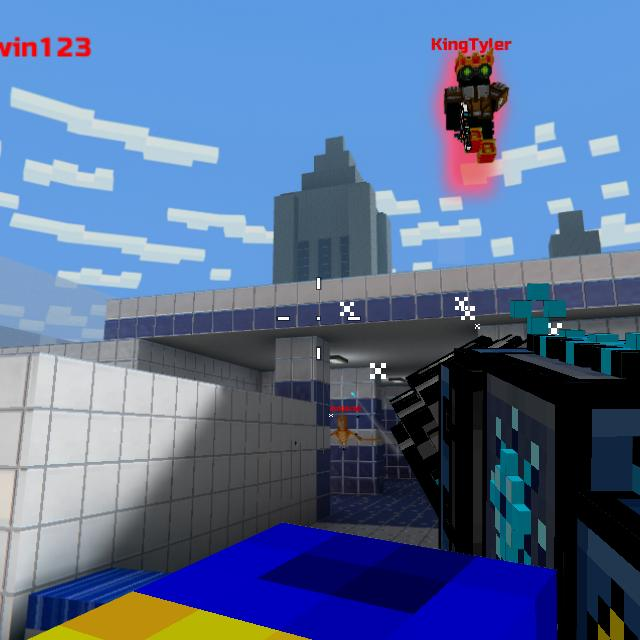Enemy: (444, 55, 510, 164)
